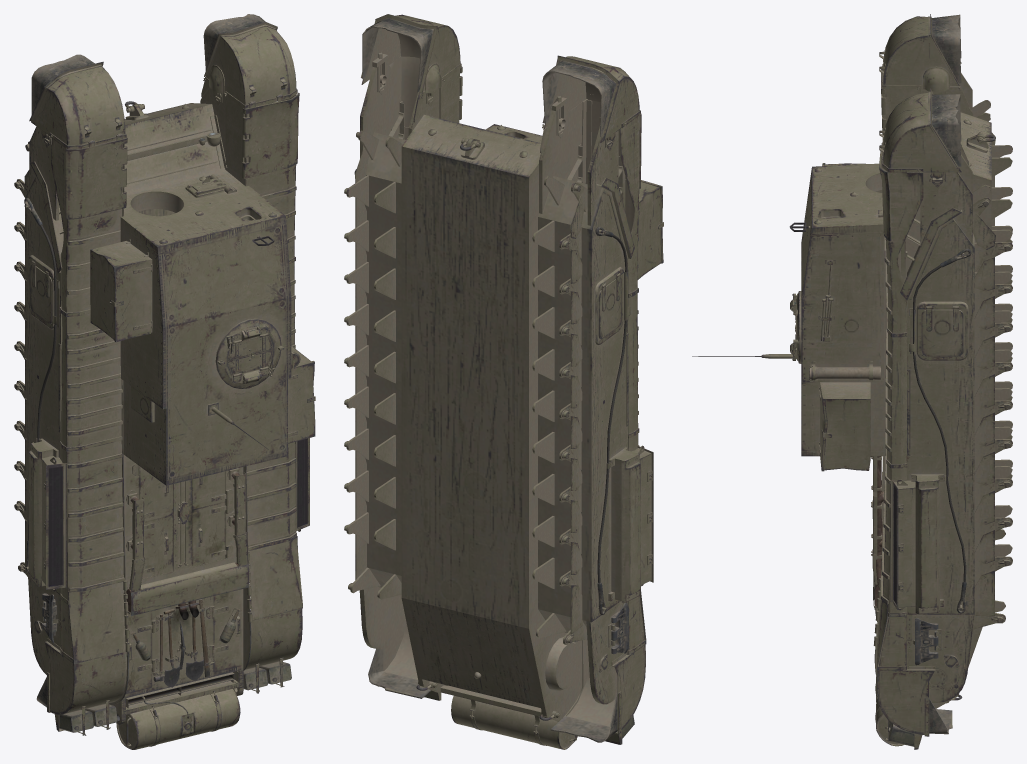
File: Hull.glb
3 views of the same model, side by side, from view 1: azimuth 30°, elevation 25°; view 2: azimuth 150°, elevation 25°; view 3: azimuth 270°, elevation 25° (orthographic). The views are drawn at different scales.
Parts seen in each view (by area): view 1: set_0_group_0; view 2: set_0_group_0; view 3: set_0_group_0.
Part boxes in pixels (left/top/right/bottom): set_0_group_0: left=14, top=14, right=315, bottom=749; set_0_group_0: left=344, top=14, right=663, bottom=749; set_0_group_0: left=692, top=14, right=1012, bottom=749.
Size of the model in its own units: 3.25 by 7.98 by 3.51.
Materials: 1 (1 with a texture image).
